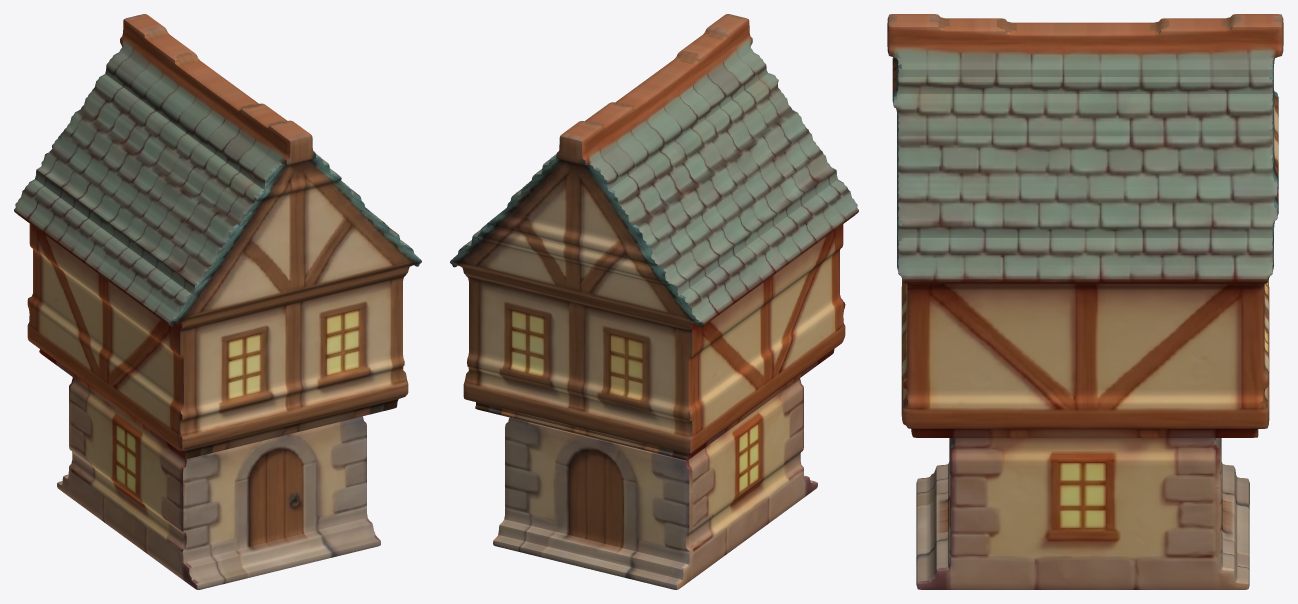
Rendered from town-house-teal.glb.
The picture shows the model from 3 angles, left to right: view 1: azimuth 30°, elevation 25°; view 2: azimuth 150°, elevation 25°; view 3: azimuth 270°, elevation 25°; orthographic projection. The views are drawn at different scales.
Visible parts, largest first — view 1: piece; view 2: piece; view 3: piece.
Part boxes in pixels (x1,y1,x2,y2): piece: (14, 14, 421, 589); piece: (450, 14, 858, 589); piece: (887, 14, 1283, 589).
Bounding box in the file's own units: 3.02 × 5 × 3.46.
1 material, 1 textured.
